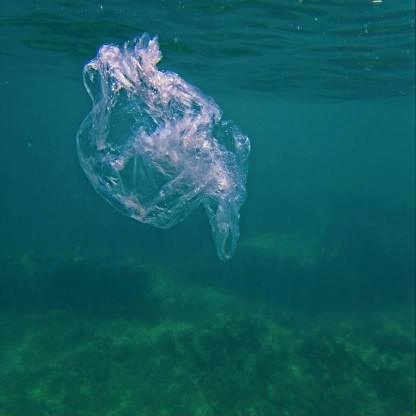pbag: (74, 31, 252, 262)
